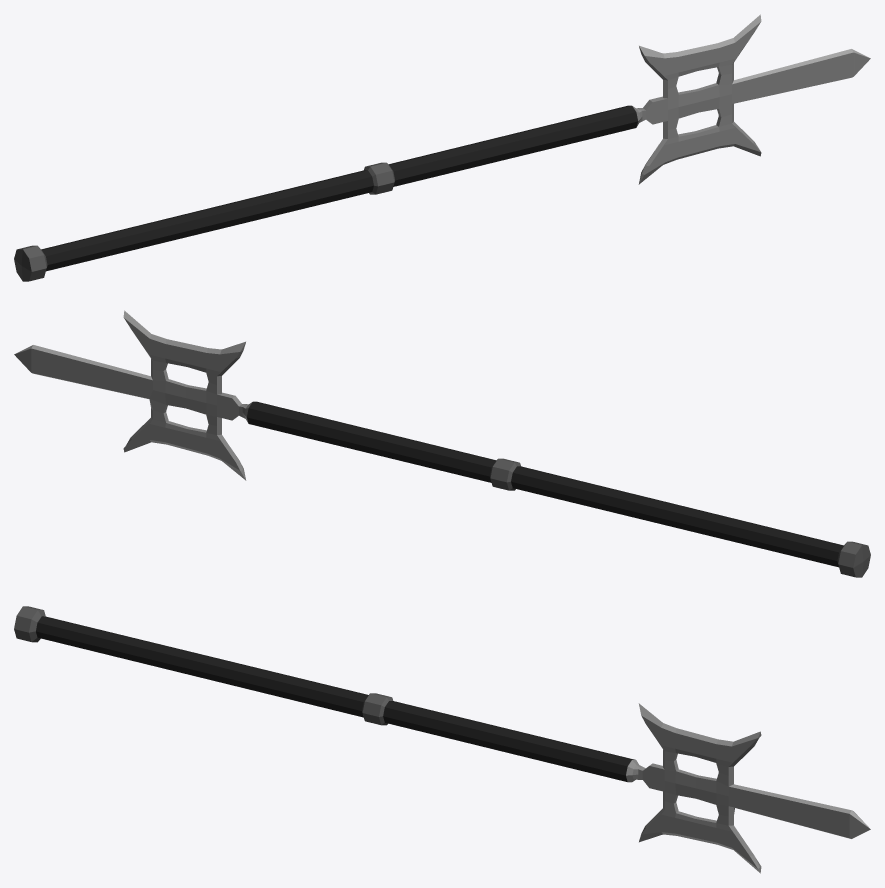
File: Bishamon's Spear_02.fbx
The picture shows the model from 3 angles, top to bottom: view 1: azimuth 30°, elevation 25°; view 2: azimuth 150°, elevation 25°; view 3: azimuth 330°, elevation 25°; orthographic projection.
Visible parts, largest first — view 1: Bishamon Yari; view 2: Bishamon Yari; view 3: Bishamon Yari.
Boxes of the visible parts, x1,y1,x2,y2 form: Bishamon Yari: (14, 14, 870, 281); Bishamon Yari: (14, 310, 870, 577); Bishamon Yari: (14, 606, 870, 873).
Bounding box in the file's own units: 197 × 31.45 × 7.14.
